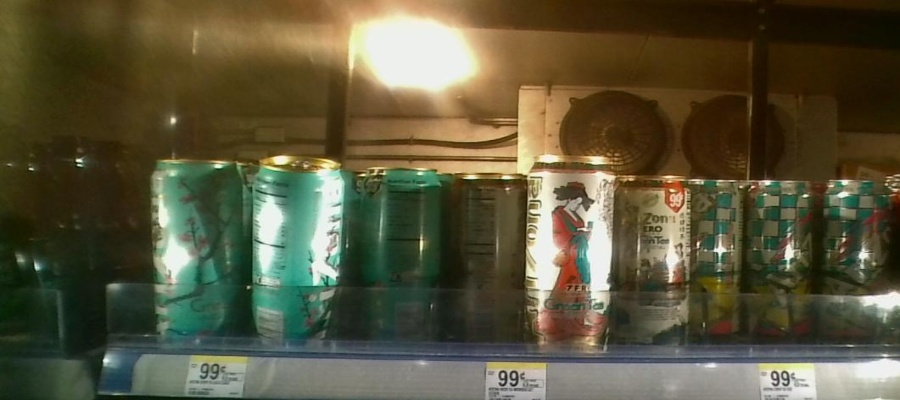bottle: (249, 154, 348, 345), (145, 154, 243, 345), (528, 151, 616, 352), (360, 161, 445, 347), (452, 160, 526, 350), (618, 168, 690, 354), (821, 173, 894, 351), (747, 172, 818, 350), (694, 176, 745, 345)
